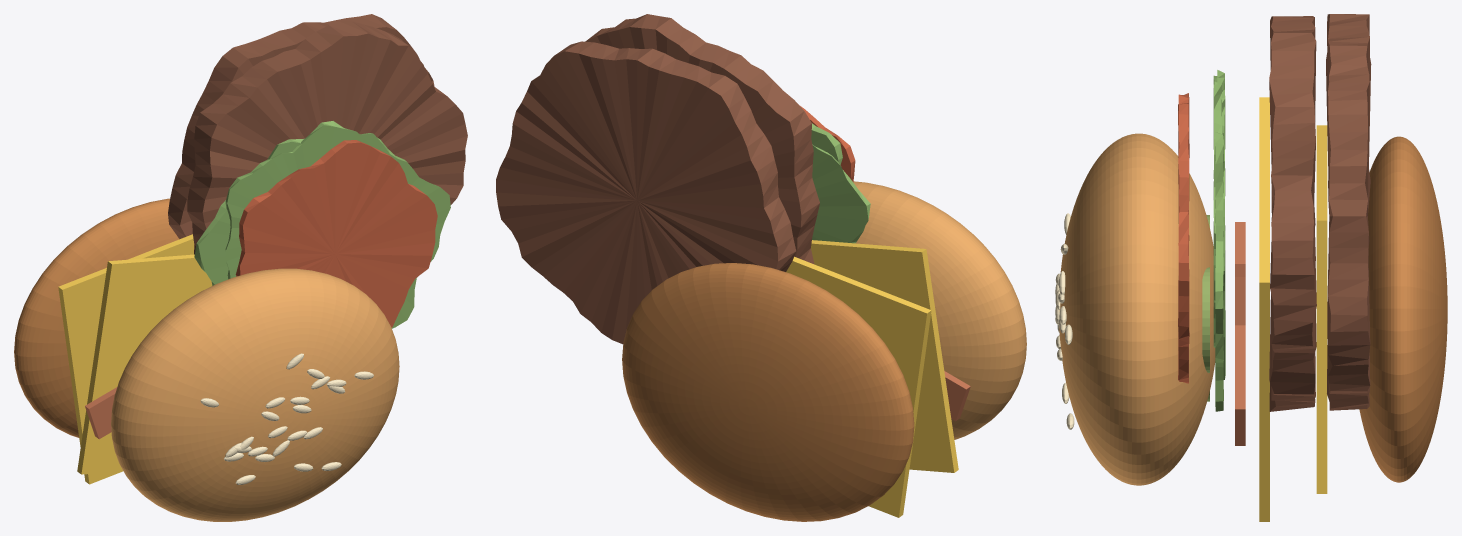
File: burger.glb
3 renders of one model, left to right at view 1: azimuth 30°, elevation 25°; view 2: azimuth 150°, elevation 25°; view 3: azimuth 270°, elevation 25°, orthographic. The views are drawn at different scales.
Parts seen in each view (by area): view 1: top_bun, patty_upper, sauce, bottom_bun, cheese_upper, patty_lower, cheese_lower, lettuce_2, sesame_seeds, lettuce_0, lettuce_1, bacon_0; view 2: patty_lower, bottom_bun, top_bun, patty_upper, cheese_upper, cheese_lower, lettuce_0, bacon_0, lettuce_2, sauce; view 3: top_bun, bottom_bun, patty_upper, patty_lower, cheese_upper, cheese_lower, sauce, lettuce_1, bacon_1, sesame_seeds, lettuce_2, lettuce_0 (+2 smaller).
Boxes of the visible parts, x1,y1,x2,y2 form: top_bun: [111, 268, 399, 521]; patty_upper: [187, 21, 467, 254]; sauce: [235, 140, 437, 327]; bottom_bun: [14, 198, 179, 437]; cheese_upper: [77, 254, 212, 474]; patty_lower: [168, 14, 434, 239]; cheese_lower: [58, 234, 194, 484]; lettuce_2: [225, 121, 370, 279]; sesame_seeds: [200, 353, 373, 484]; lettuce_0: [194, 138, 304, 285]; lettuce_1: [360, 133, 450, 328]; bacon_0: [85, 387, 117, 439]; patty_lower: [496, 41, 796, 344]; bottom_bun: [622, 263, 914, 521]; top_bun: [853, 181, 1026, 439]; patty_upper: [585, 14, 819, 263]; cheese_upper: [811, 240, 958, 472]; cheese_lower: [786, 256, 931, 517]; lettuce_0: [812, 144, 870, 243]; bacon_0: [944, 371, 970, 421]; lettuce_2: [811, 123, 842, 165]; sauce: [799, 105, 855, 182]; top_bun: [1059, 133, 1215, 485]; bottom_bun: [1359, 136, 1447, 482]; patty_upper: [1269, 16, 1316, 411]; patty_lower: [1326, 14, 1371, 410]; cheese_upper: [1259, 97, 1269, 521]; cheese_lower: [1316, 125, 1327, 493]; sauce: [1178, 93, 1189, 383]; lettuce_1: [1215, 132, 1223, 411]; bacon_1: [1235, 222, 1245, 445]; sesame_seeds: [1055, 213, 1074, 429]; lettuce_2: [1213, 75, 1221, 347]; lettuce_0: [1217, 70, 1225, 379].
Size of the model in its own units: 4.25 by 3.99 by 2.74.
